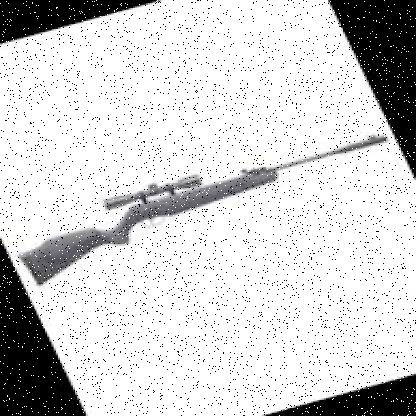rifle: (0, 116, 416, 288)
